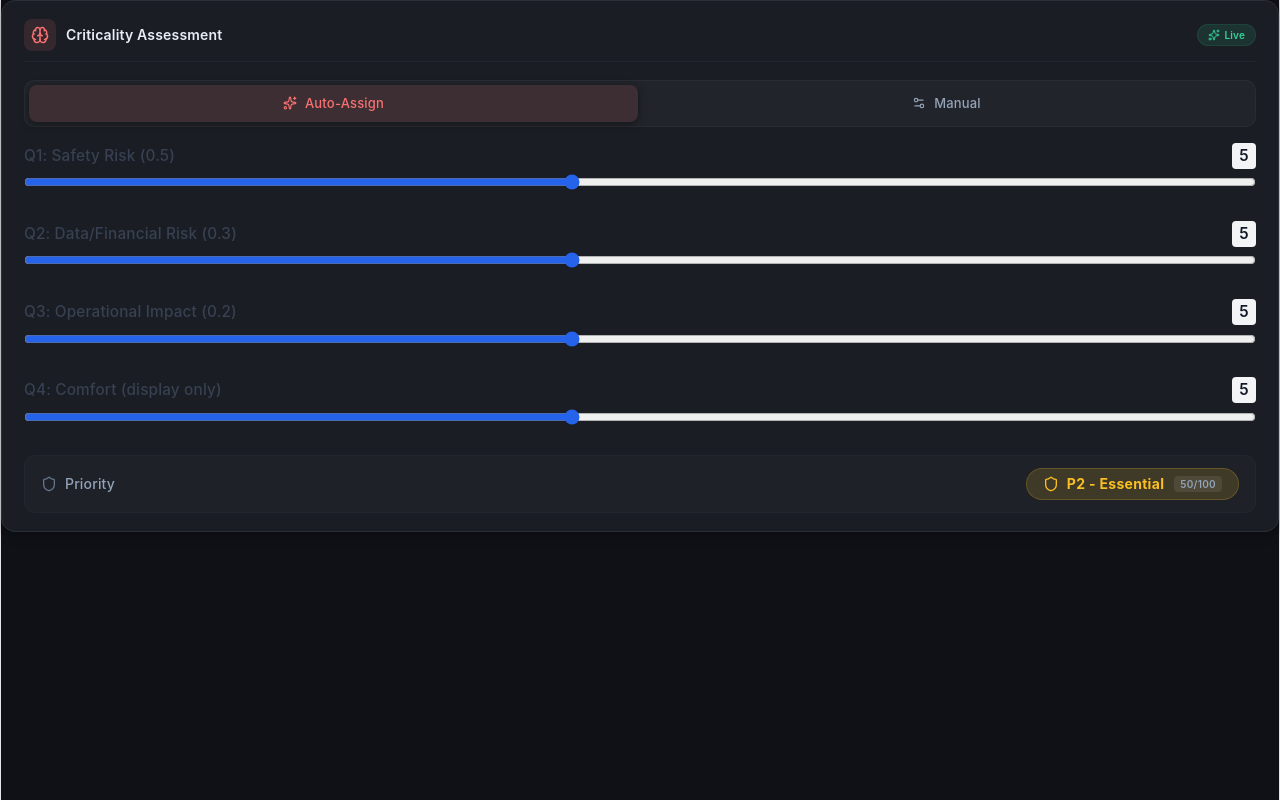
Test: CriticalityWizard › enables sliders in auto mode and disables them in manual mode
The width and height of the screenshot is (1280, 800).
Expected: the slider with test id "slider-q1" is enabled, [24,174,1256,190]
Expected: the slider with test id "slider-q2" is enabled, [24,252,1256,268]
Step 1. Click the radio button with test id "mode-manual" → (946, 103), box [912,95,981,111]
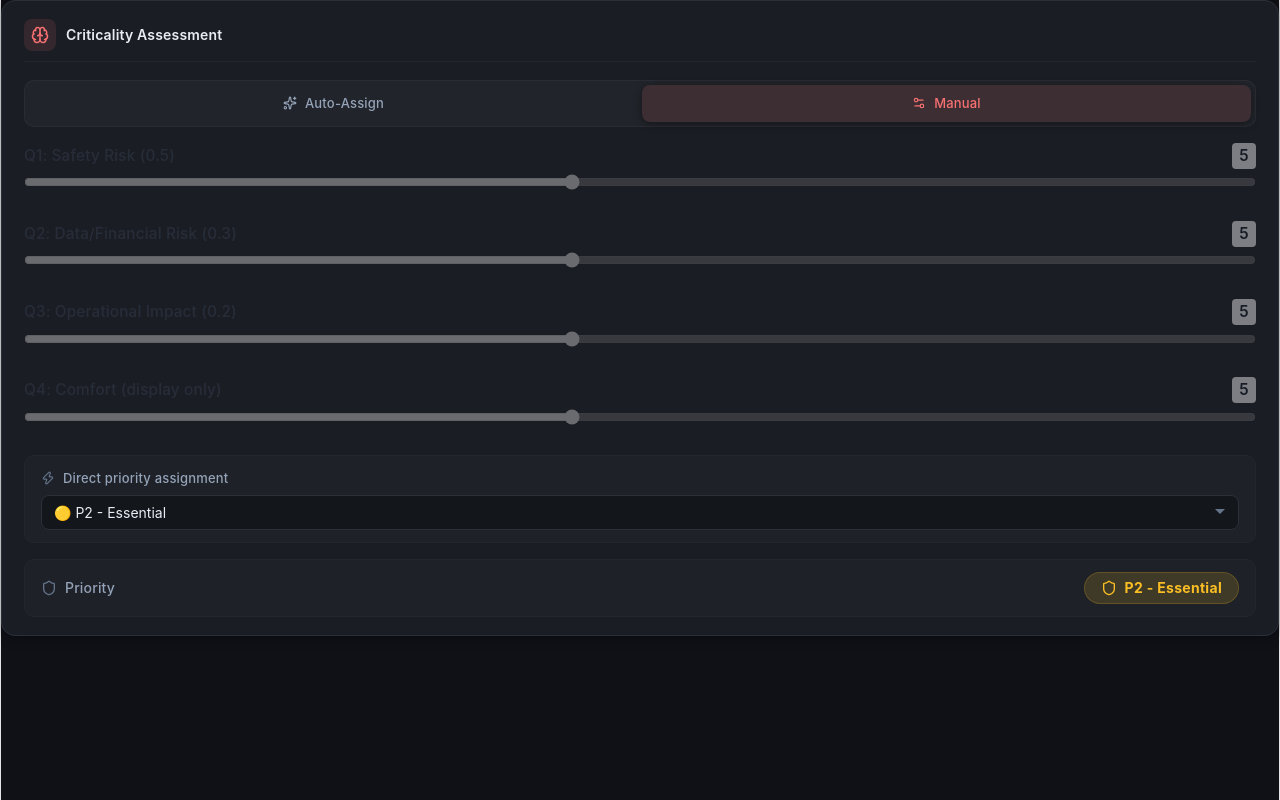
Expected: the slider with test id "slider-q1" is disabled, [24,174,1256,190]
Expected: the slider with test id "slider-q2" is disabled, [24,252,1256,268]
Expected: the slider with test id "slider-q3" is disabled, [24,330,1256,346]
Step 2. Click the radio button with test id "mode-auto" → (334, 103), box [283,95,384,111]
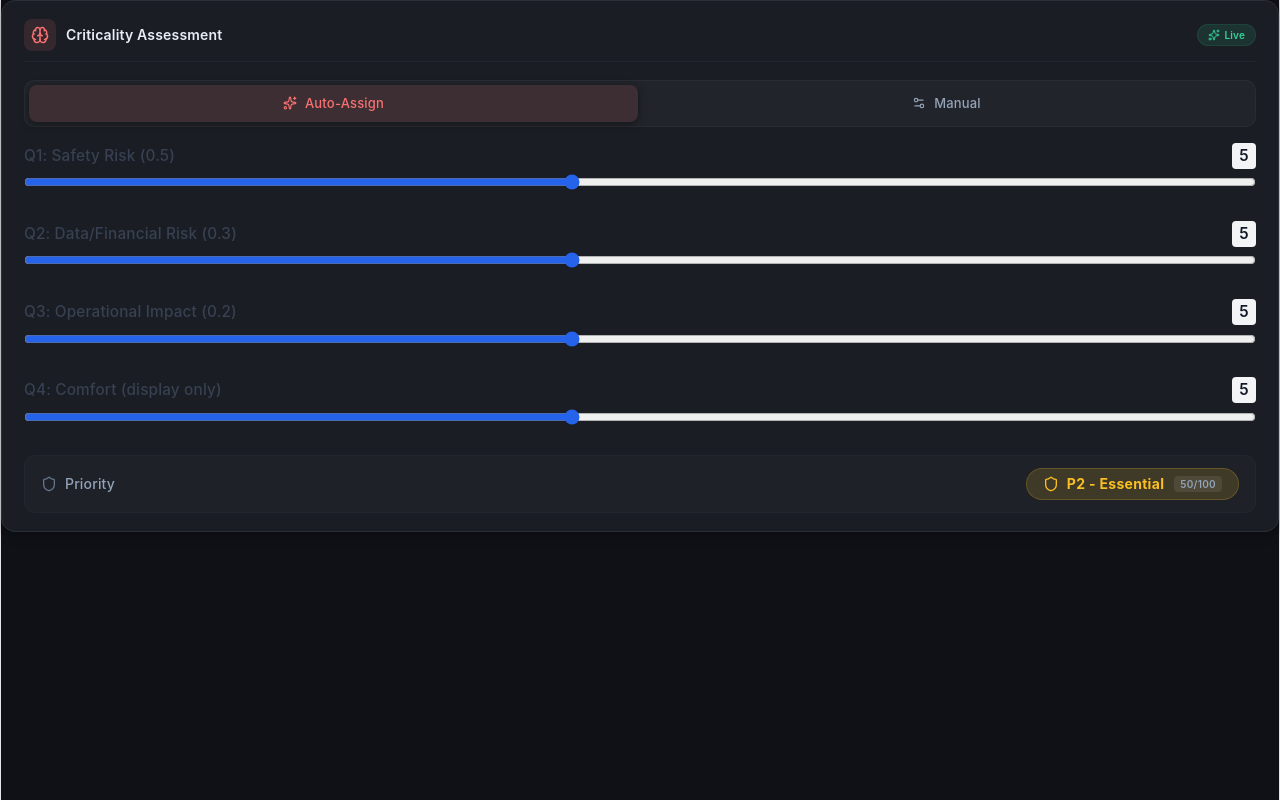
Expected: the slider with test id "slider-q1" is enabled, [24,174,1256,190]
